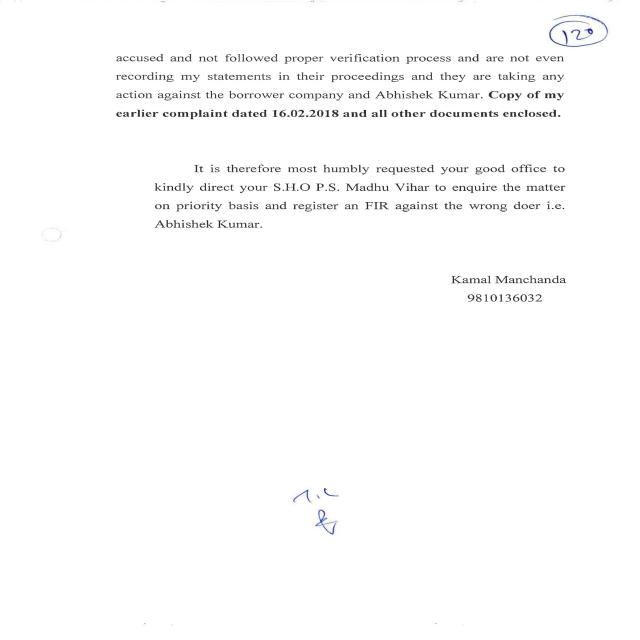page-number: (414, 0, 640, 51)
